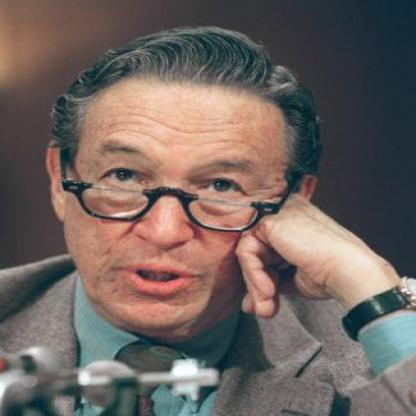face: (66, 41, 294, 337)
